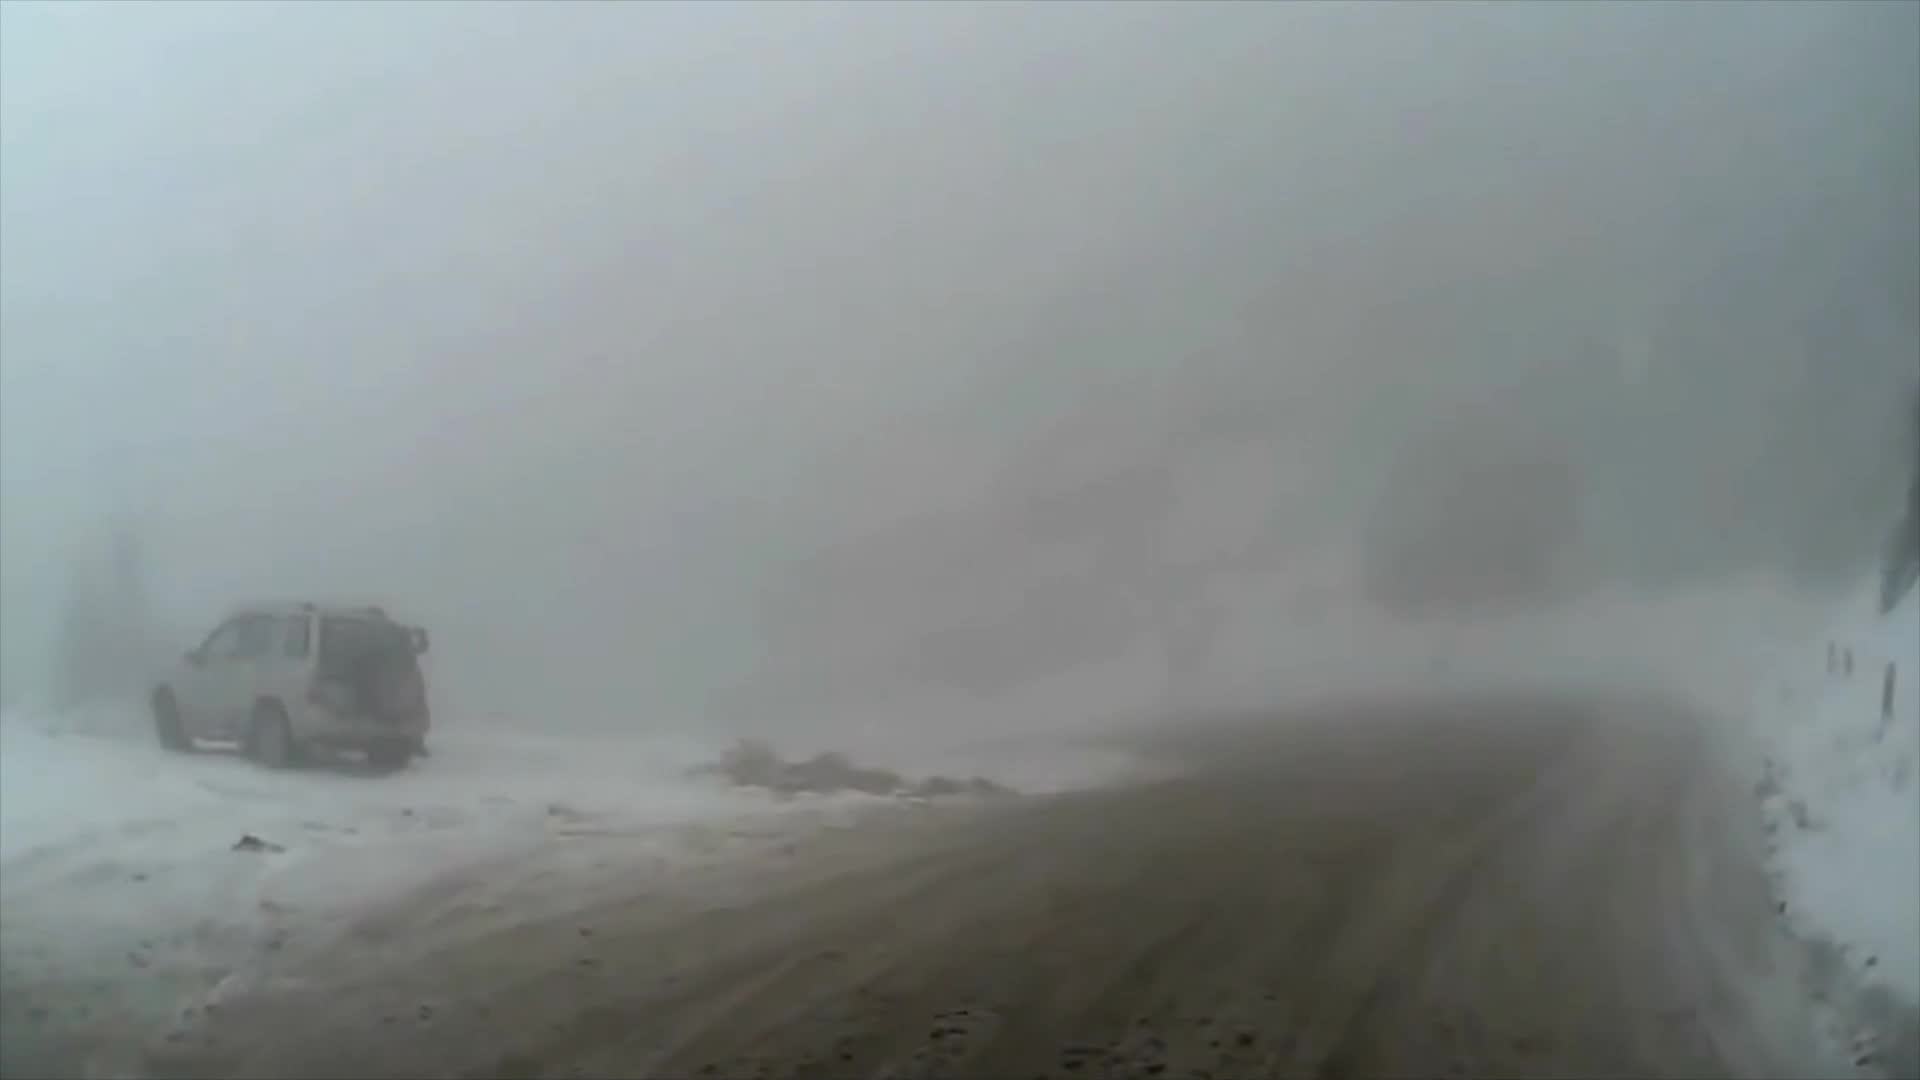vehicle: (148, 600, 429, 771)
